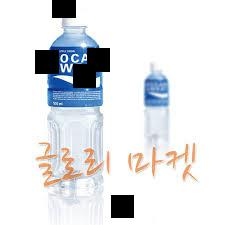pocarisweat: (45, 9, 106, 198)
